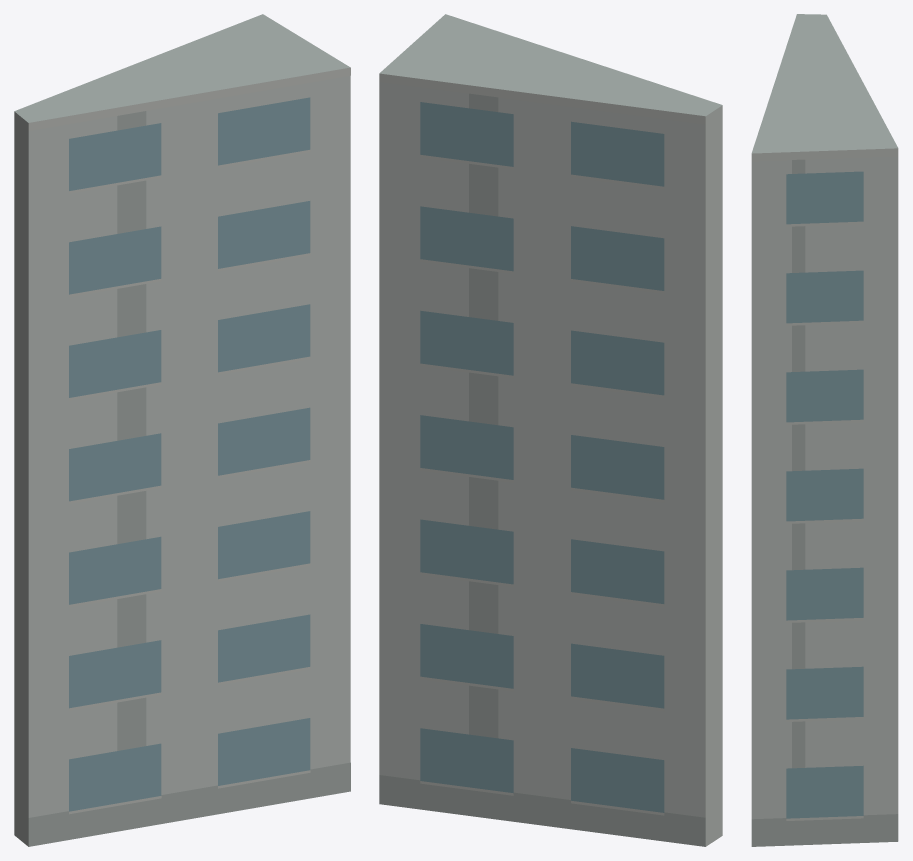
File: survey-upis-32496862.glb
3 renders of one model, left to right at view 1: azimuth 30°, elevation 25°; view 2: azimuth 150°, elevation 25°; view 3: azimuth 270°, elevation 25°, orthographic. The views are drawn at different scales.
Parts seen in each view (by area): view 1: survey-upis-32496862.tmp; view 2: survey-upis-32496862.tmp; view 3: survey-upis-32496862.tmp.
Part boxes in pixels (bbox=[...]): survey-upis-32496862.tmp: bbox=[14, 14, 350, 846]; survey-upis-32496862.tmp: bbox=[379, 14, 722, 846]; survey-upis-32496862.tmp: bbox=[751, 14, 898, 846].
Bounding box in the file's own units: 9.22 × 21.35 × 4.11.
